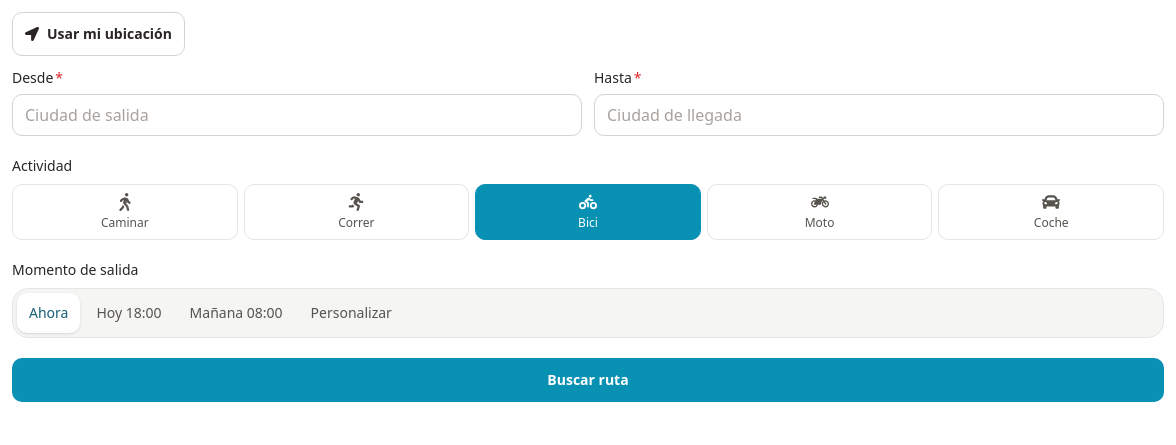
Test: PlannerForm › validates required fields with the shared Spanish messages before resolving
Click the button "Buscar ruta" at x=588, y=380, box [12,358,1164,402]
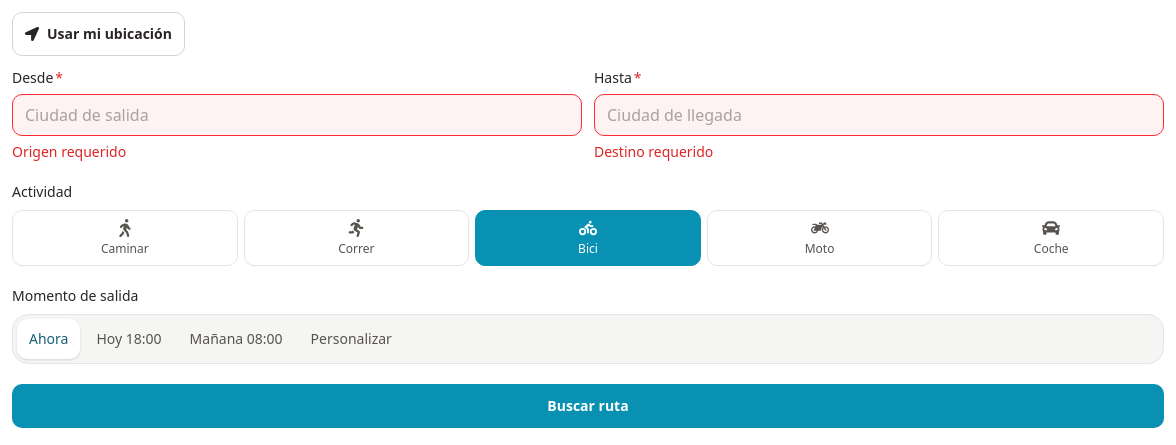
Check: the text "Origen requerido" is shown, box [12,142,126,161]
Check: the text "Destino requerido" is shown, box [594,142,713,161]
